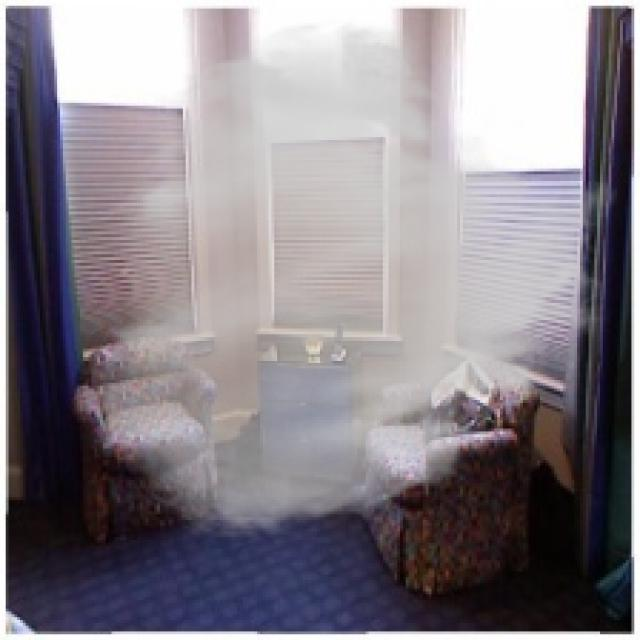smoke: (86, 17, 620, 543)
